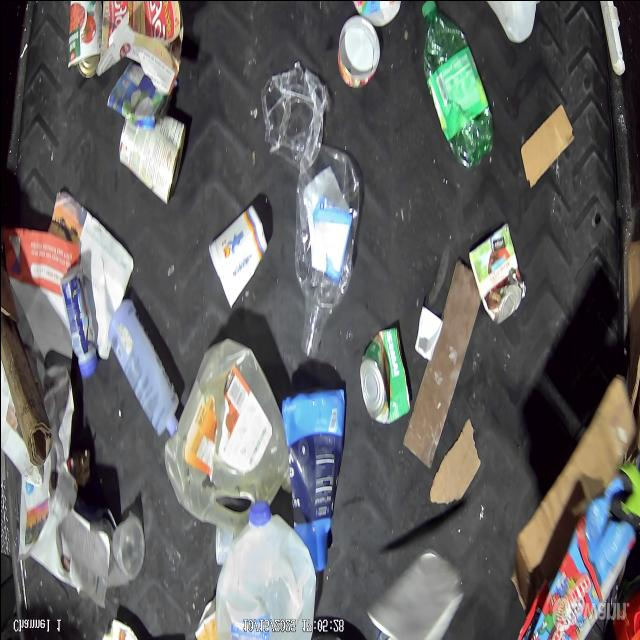can: (464, 225, 528, 327), (122, 108, 186, 208), (356, 318, 410, 432), (62, 1, 104, 86), (336, 24, 378, 92)
milk_jug: (215, 502, 313, 640)
non_white_jug: (163, 350, 290, 500), (284, 383, 340, 569)
plastic_bottle: (296, 152, 357, 368), (261, 70, 329, 160)
